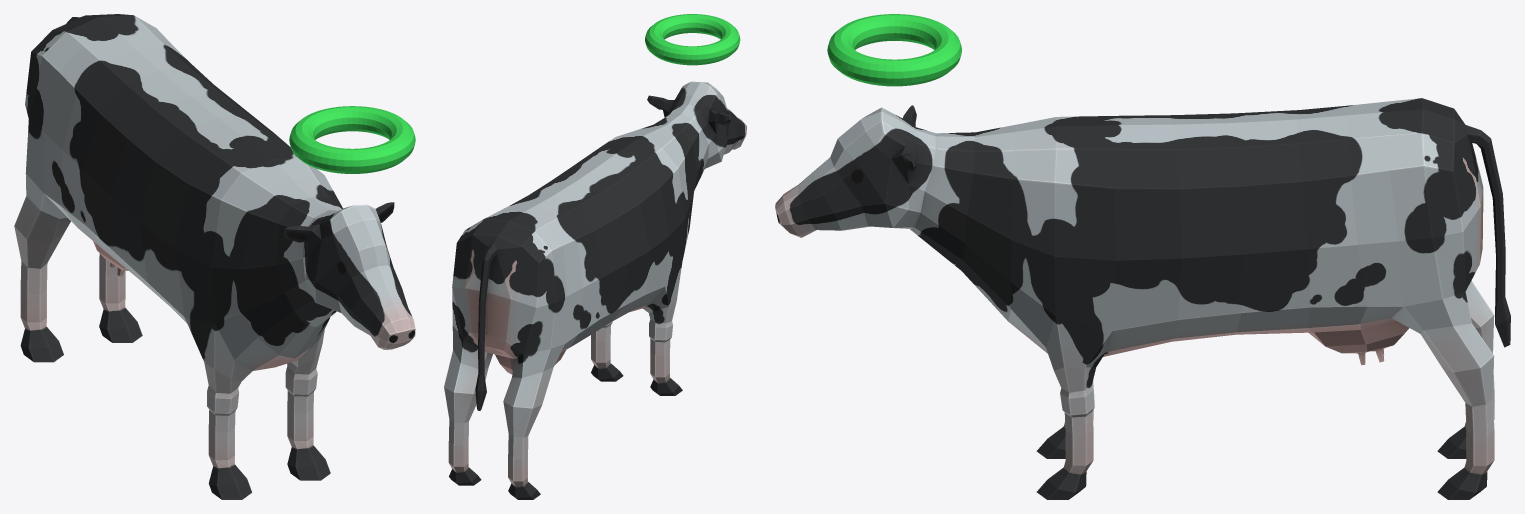
Rendered from healthy_in_estrus.gltf.
3 views of the same model, side by side, from view 1: azimuth 30°, elevation 25°; view 2: azimuth 150°, elevation 25°; view 3: azimuth 270°, elevation 25° (orthographic). The views are drawn at different scales.
Visible parts, largest first — view 1: Cow_mesh, Torus; view 2: Cow_mesh, Torus; view 3: Cow_mesh, Torus.
Boxes of the visible parts, bbox=[...] form: Cow_mesh: bbox=[14, 14, 415, 499]; Torus: bbox=[289, 106, 415, 173]; Cow_mesh: bbox=[444, 81, 746, 499]; Torus: bbox=[645, 14, 740, 65]; Cow_mesh: bbox=[775, 98, 1510, 499]; Torus: bbox=[827, 14, 961, 86].
Size of the model in its own units: 3.36 by 8.92 by 13.65.
Materials: 2 (1 with a texture image).
